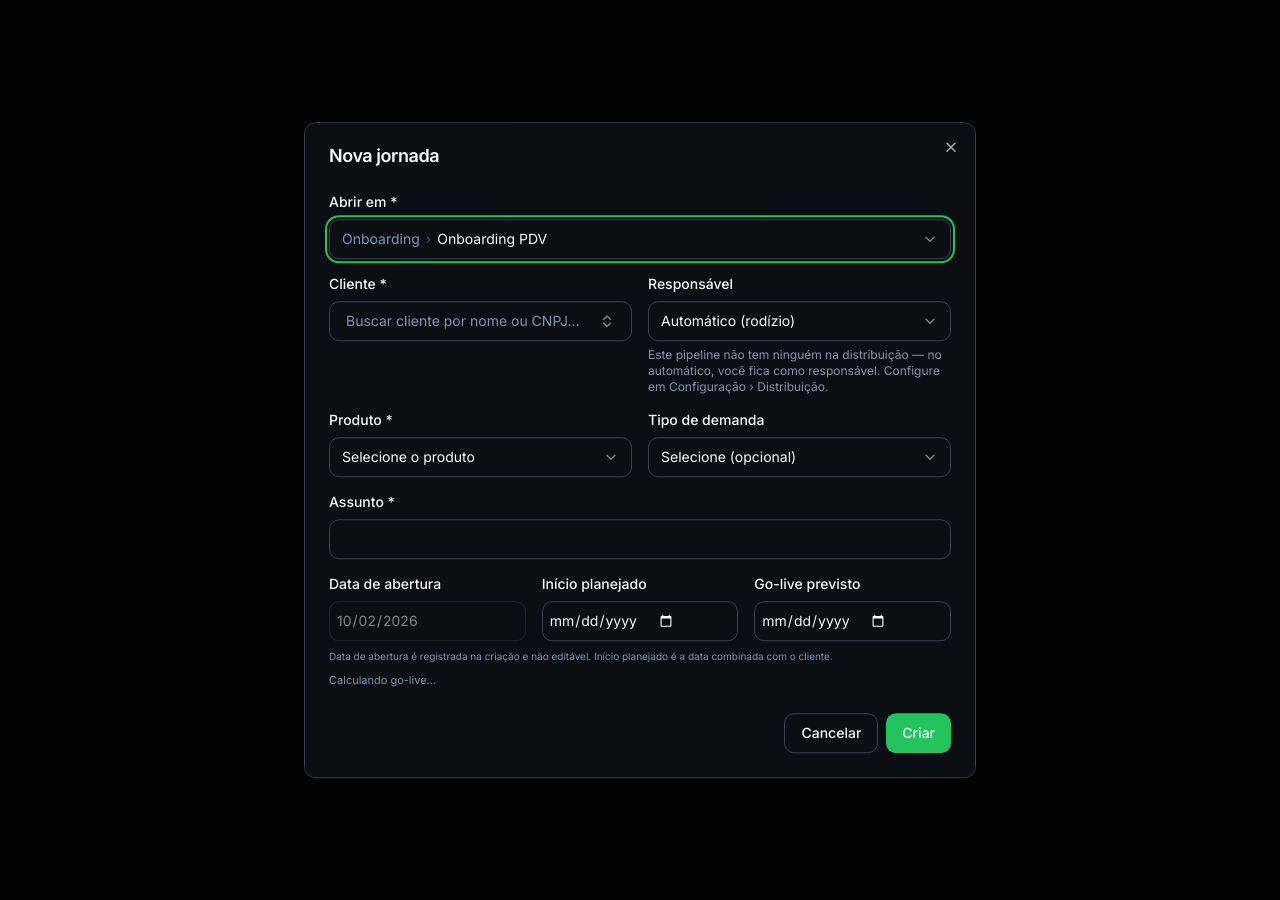
NewJourneyModal — produto preenchido pelo cliente (DEM-0324) › não escolhe por conta própria quando o cliente tem mais de um produto
Click the dropdown labelled "Buscar cliente por nome ou CNPJ...".
click(480, 321)  # box [329,301,632,341]
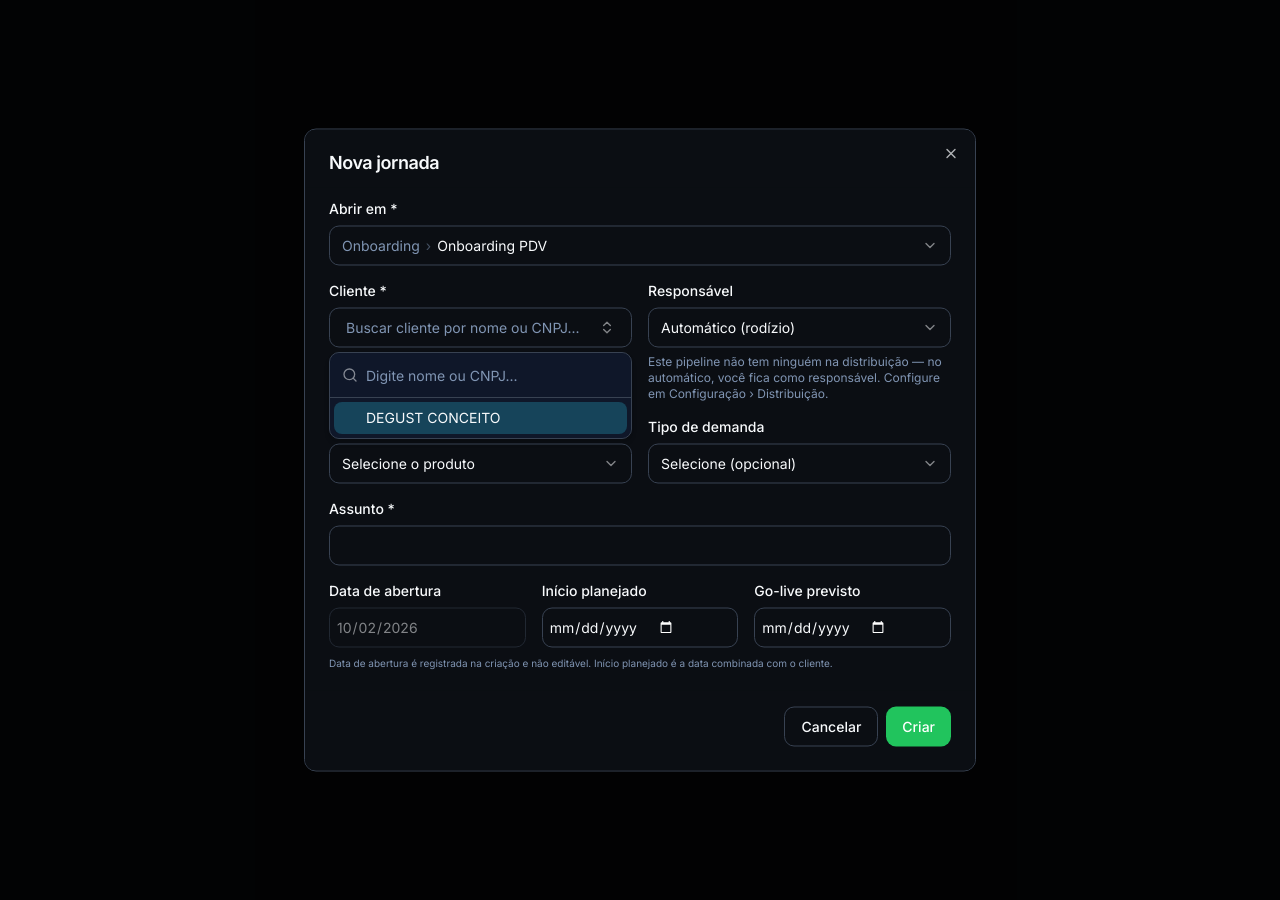
Click the option "DEGUST CONCEITO".
click(480, 418)  # box [334,402,627,434]
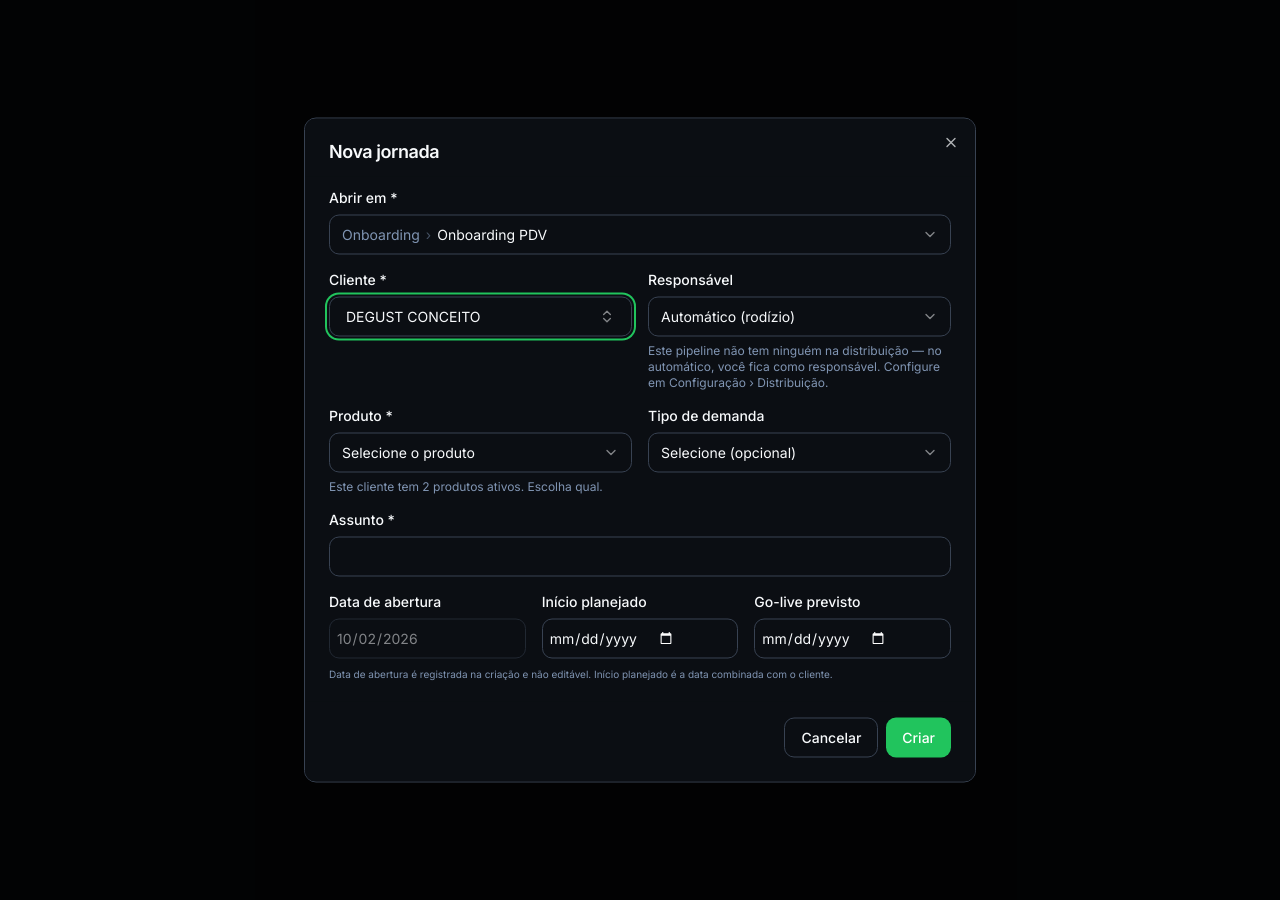
Expected: the dropdown labelled "Selecione o produto" is shown, [329,432,632,472]
Expected: the text "2 produtos ativos" is shown, [329,478,603,494]
